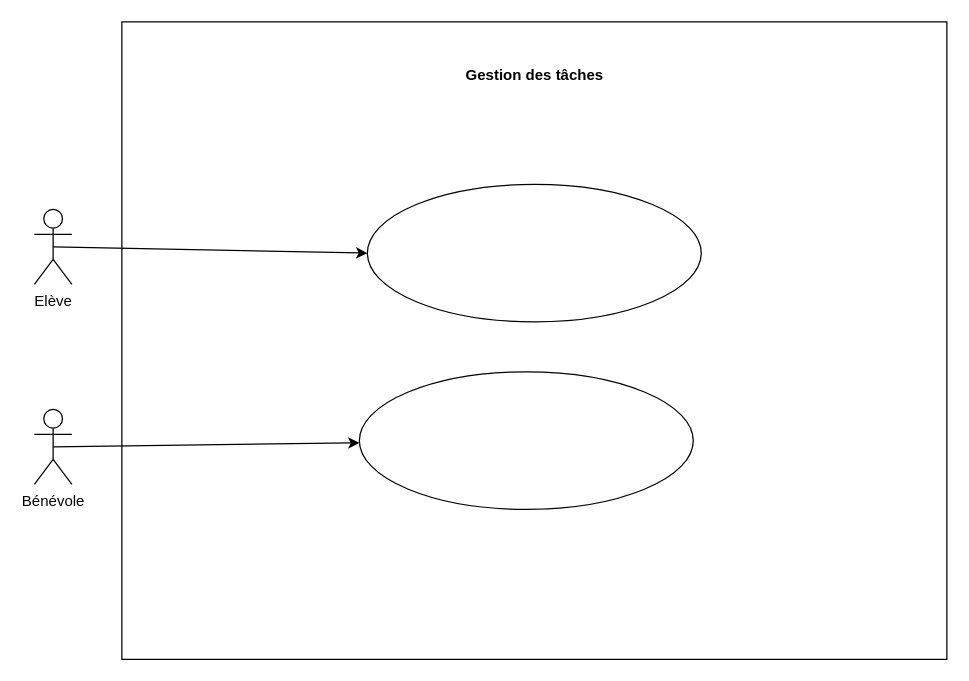
This 969x681 diagram has some shape labels left out. The centre of each missing label's shape, as x and y in pixels:
"Création d'une nouvelle pour les élèves en charge" belongs at point (525, 440).
"Création d'une nouvelle tâche personnelle" belongs at point (533, 252).
